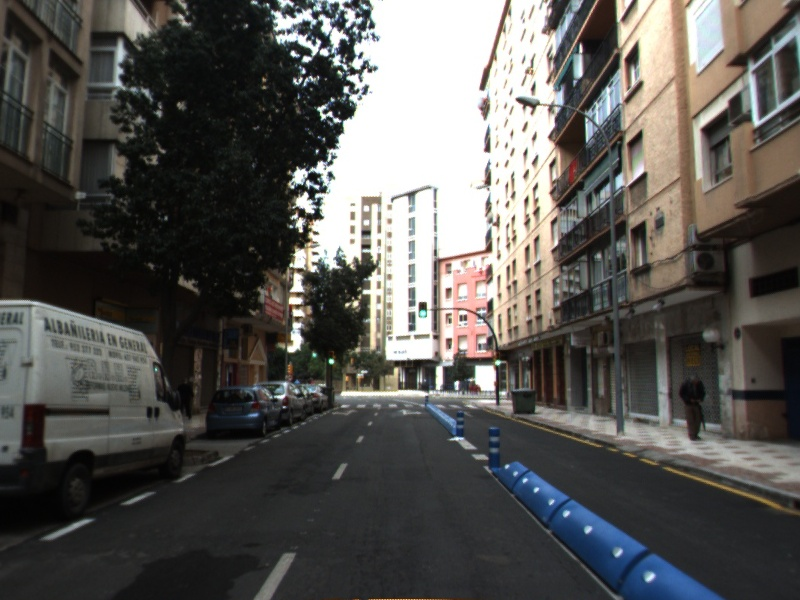STRAIGHT_LEFT: (331, 408, 360, 417)
STRAIGHT_RIGHT: (396, 407, 424, 417)
